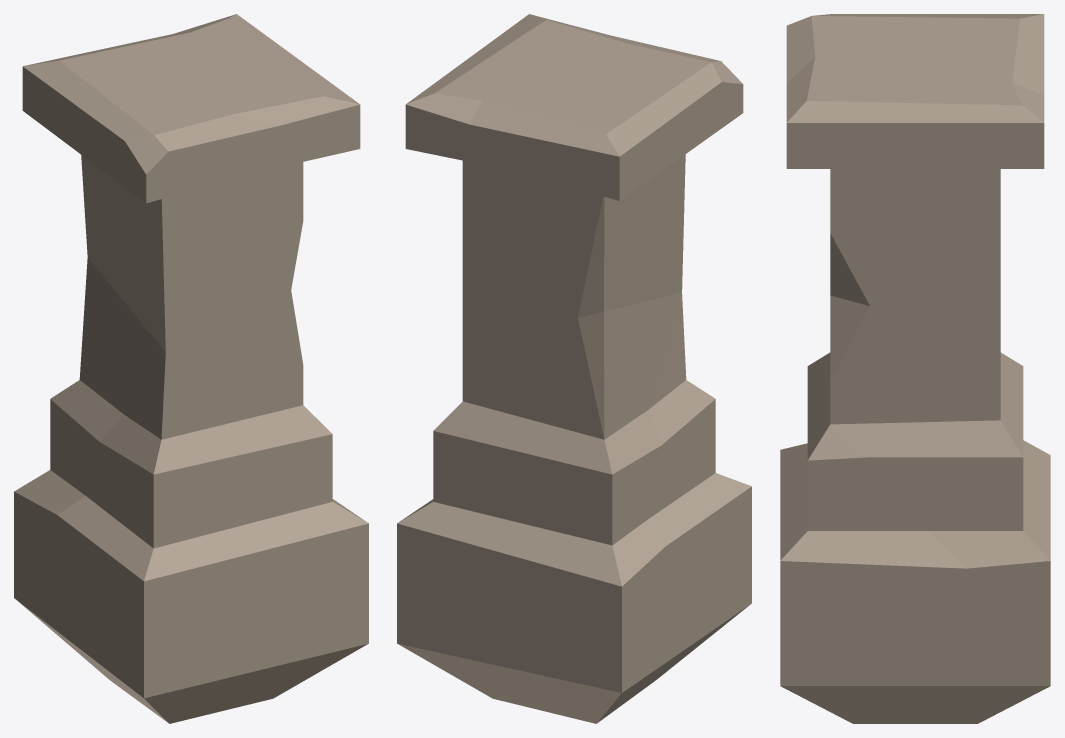
The model's file is SM_Bld_Fort_Railing_01_Pillar_01.fbx.
The picture shows the model from 3 angles, left to right: view 1: azimuth 30°, elevation 25°; view 2: azimuth 150°, elevation 25°; view 3: azimuth 270°, elevation 25°; orthographic projection. The views are drawn at different scales.
Parts seen in each view (by area): view 1: SM_Bld_Fort_Railing_01_Pillar_01; view 2: SM_Bld_Fort_Railing_01_Pillar_01; view 3: SM_Bld_Fort_Railing_01_Pillar_01.
Boxes of the visible parts, x1=… form: SM_Bld_Fort_Railing_01_Pillar_01: x1=14, y1=14, x2=368, y2=723; SM_Bld_Fort_Railing_01_Pillar_01: x1=397, y1=14, x2=751, y2=723; SM_Bld_Fort_Railing_01_Pillar_01: x1=780, y1=14, x2=1050, y2=723.
Size of the model in its own units: 76.17 by 198 by 76.17.
